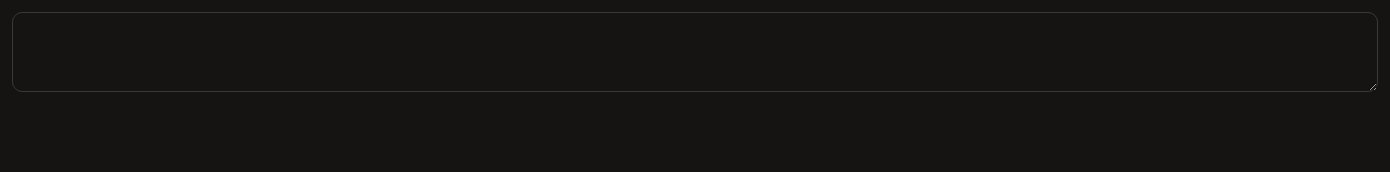
Test: autocomplete field › selects by keyboard, exposes the active option and does not select on typing
The image size is (1390, 172).
In the dropdown named "Ingredientes": (695, 52) [12,12,1378,92], type "150 g de que"
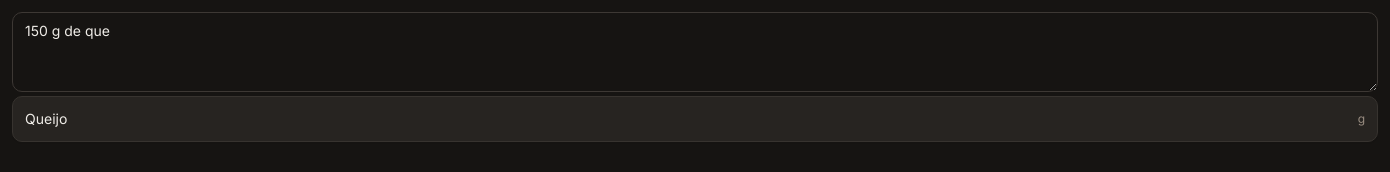
Result: the list is shown at [12,96,1378,142]
Press ArrowDown in the dropdown named "Ingredientes", box [12,12,1378,92]
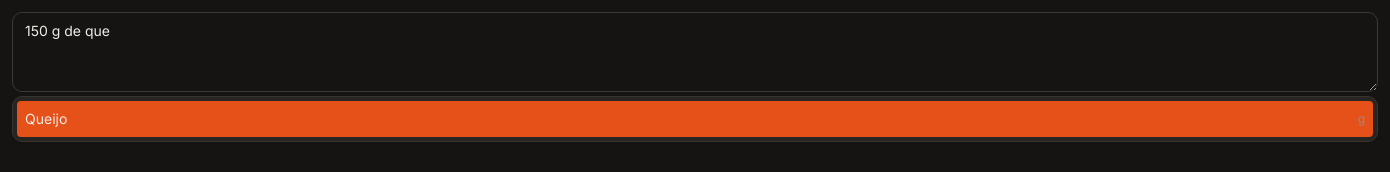
Result: the option is selected at [17,101,1373,137]
Press Enter in the dropdown named "Ingredientes", box [12,12,1378,92]
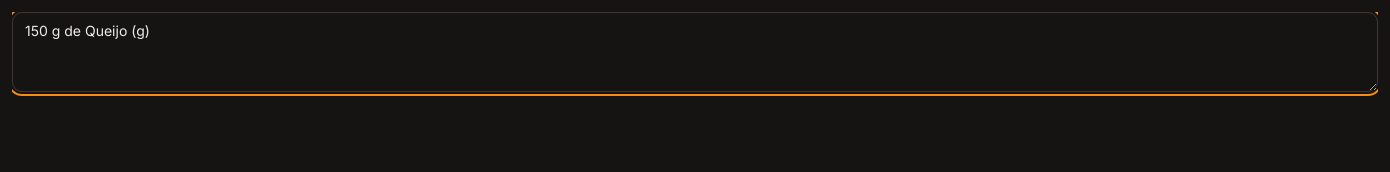
Result: the dropdown named "Ingredientes" holds "150 g de Queijo (g)" at [12,12,1378,92]
Result: the list is gone
